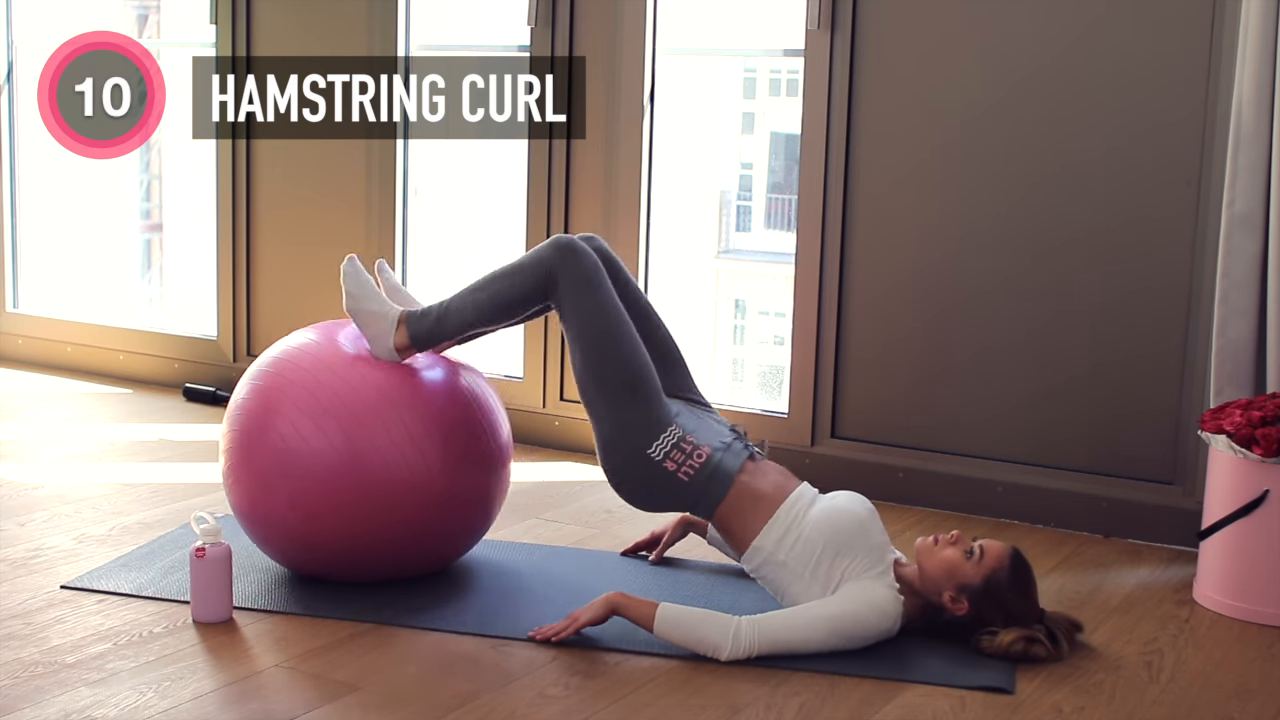yogaball: (216, 311, 523, 595)
